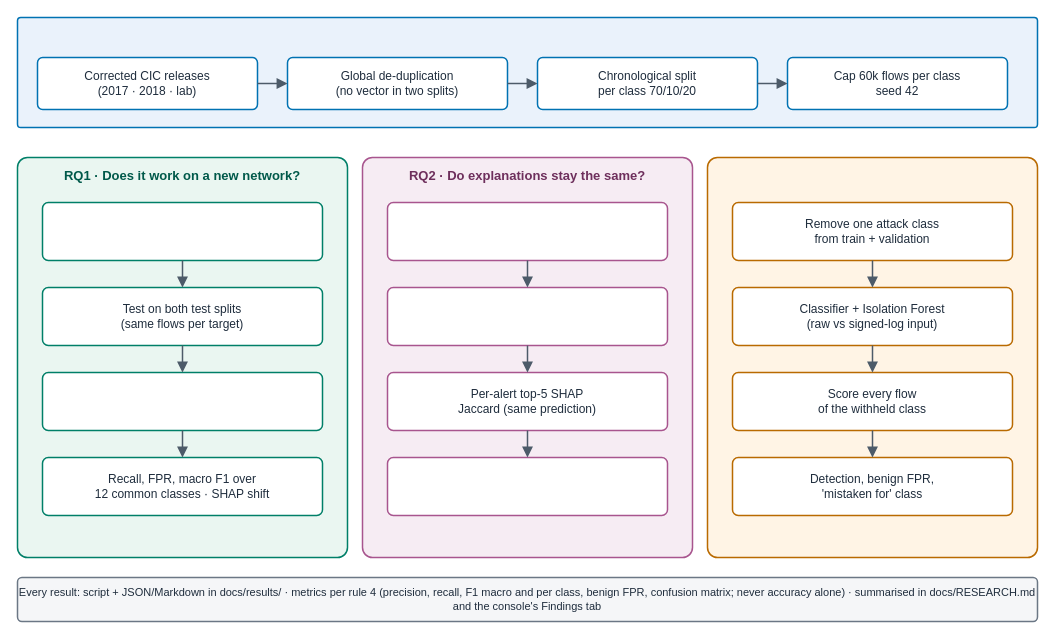
This 1056x640 diagram has some shape labels left out. Each missing label, with the box of its shape:
All features vs portable (no port / TCP window): (41, 371, 323, 431)
Fix training rows and 500 test attack flows: (386, 201, 668, 261)
Global top-10 Jaccard, Spearman · macro F1 per seed: (386, 456, 668, 516)
Retrain with 5 seeds (bagging on): (386, 286, 668, 346)
RQ3 · Can it catch unseen attacks?: (706, 156, 1038, 558)
Shared preparation (same for every experiment): (16, 16, 1038, 128)
Train on one dataset: (41, 201, 323, 261)
